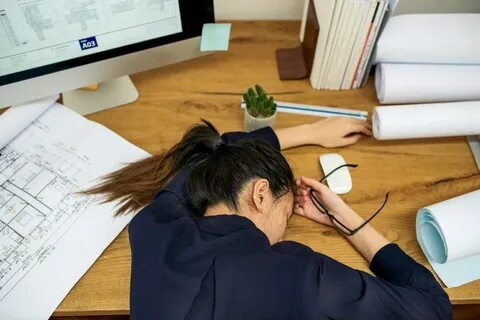sleep: (129, 131, 437, 320)
